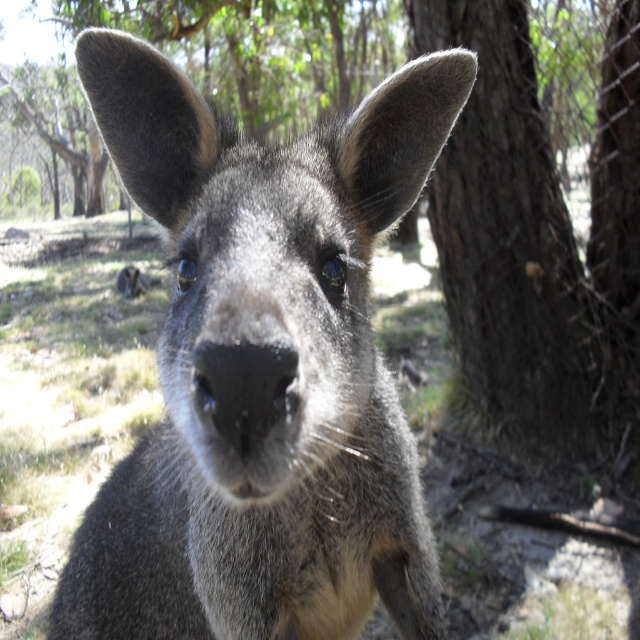Kangaroo: (44, 23, 481, 640)
